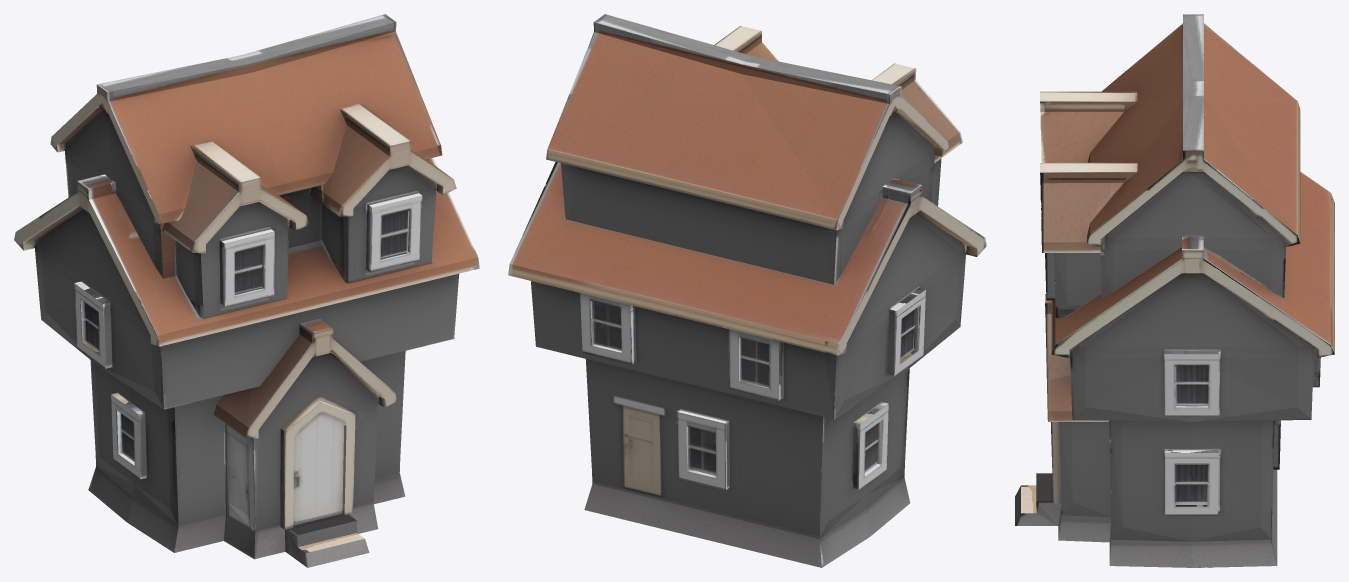
The model's file is textured_syncmvd.glb.
The picture shows the model from 3 angles, left to right: view 1: azimuth 30°, elevation 25°; view 2: azimuth 150°, elevation 25°; view 3: azimuth 270°, elevation 25°; orthographic projection. The views are drawn at different scales.
Parts seen in each view (by area): view 1: Node; view 2: Node; view 3: Node.
Part boxes in pixels (x1,y1,x2,y2): Node: (14, 14, 479, 567); Node: (508, 14, 986, 567); Node: (1015, 14, 1334, 567).
Size of the model in its own units: 1.56 by 2 by 1.35.
Materials: 1 (1 with a texture image).
